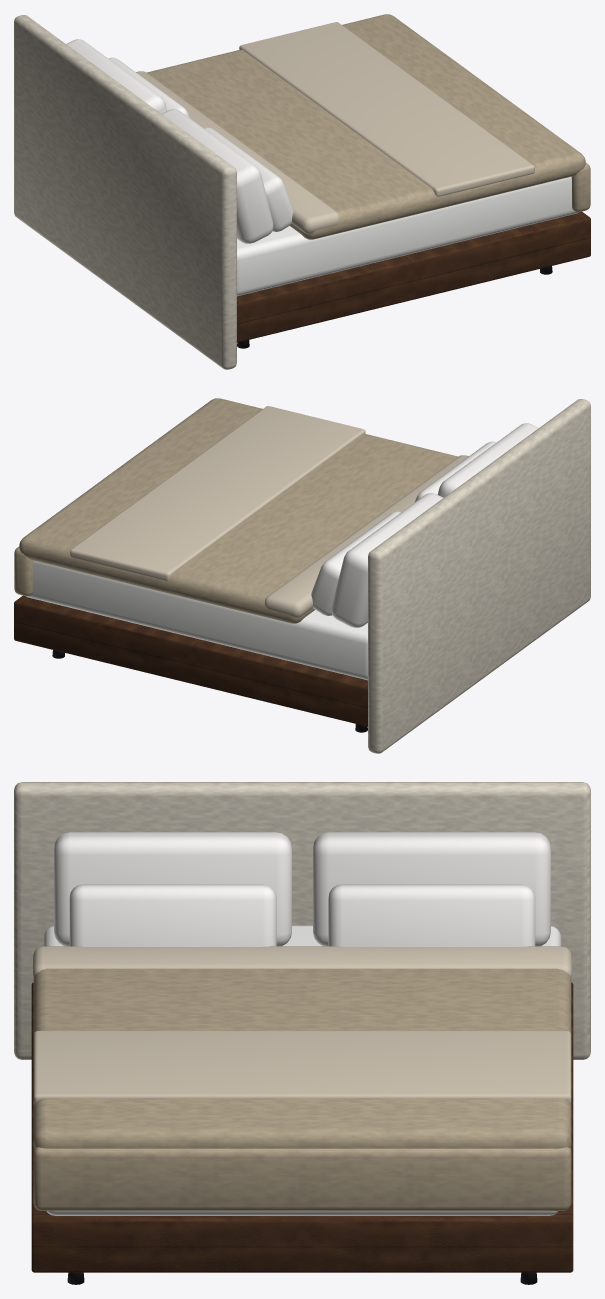
File: master_bed.glb
3 renders of one model, top to bottom at view 1: azimuth 30°, elevation 25°; view 2: azimuth 150°, elevation 25°; view 3: azimuth 270°, elevation 25°, orthographic. The views are drawn at different scales.
Parts seen in each view (by area): view 1: master_bed; view 2: master_bed; view 3: master_bed.
Part boxes in pixels (x1=…): master_bed: x1=14, y1=14, x2=590, y2=369; master_bed: x1=14, y1=398, x2=590, y2=753; master_bed: x1=14, y1=782, x2=590, y2=1284.
Size of the model in its own units: 2.18 by 1.12 by 2.14.
7 materials, 4 textured.
